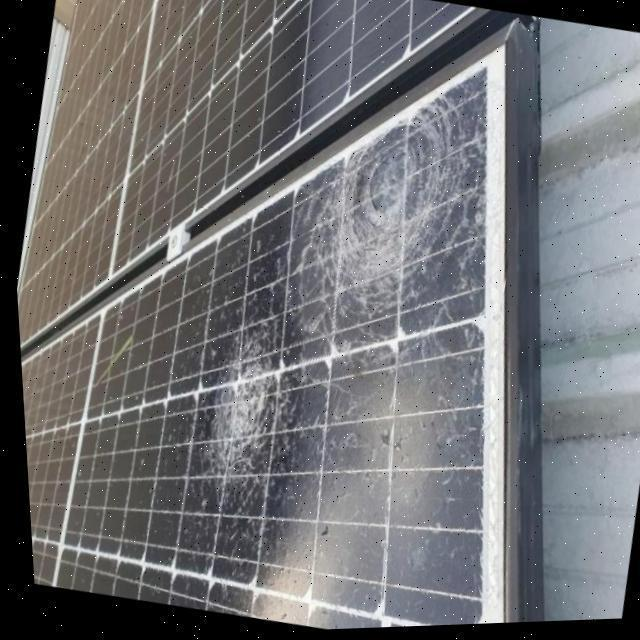Anomaly Solar Panel: (17, 43, 504, 632)
Normal Solar Panel: (13, 0, 469, 342)
Structural Damage: (264, 35, 536, 387), (181, 302, 315, 534)
